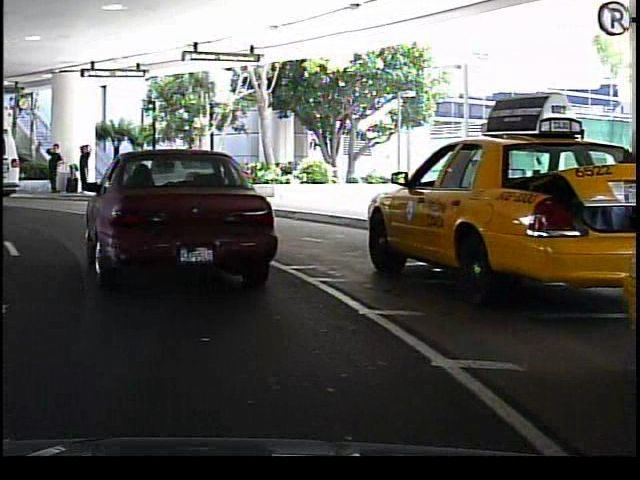person: (129, 143, 157, 199), (40, 140, 62, 199), (73, 141, 92, 197)
